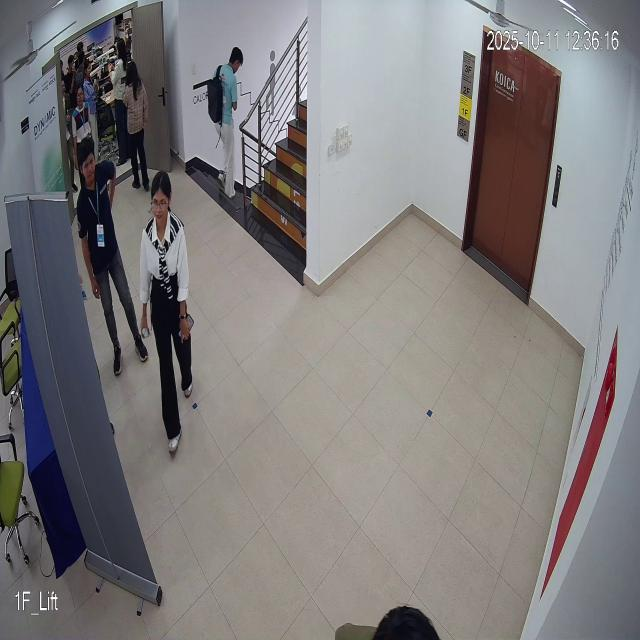face: (144, 165, 176, 228), (77, 136, 98, 188)
